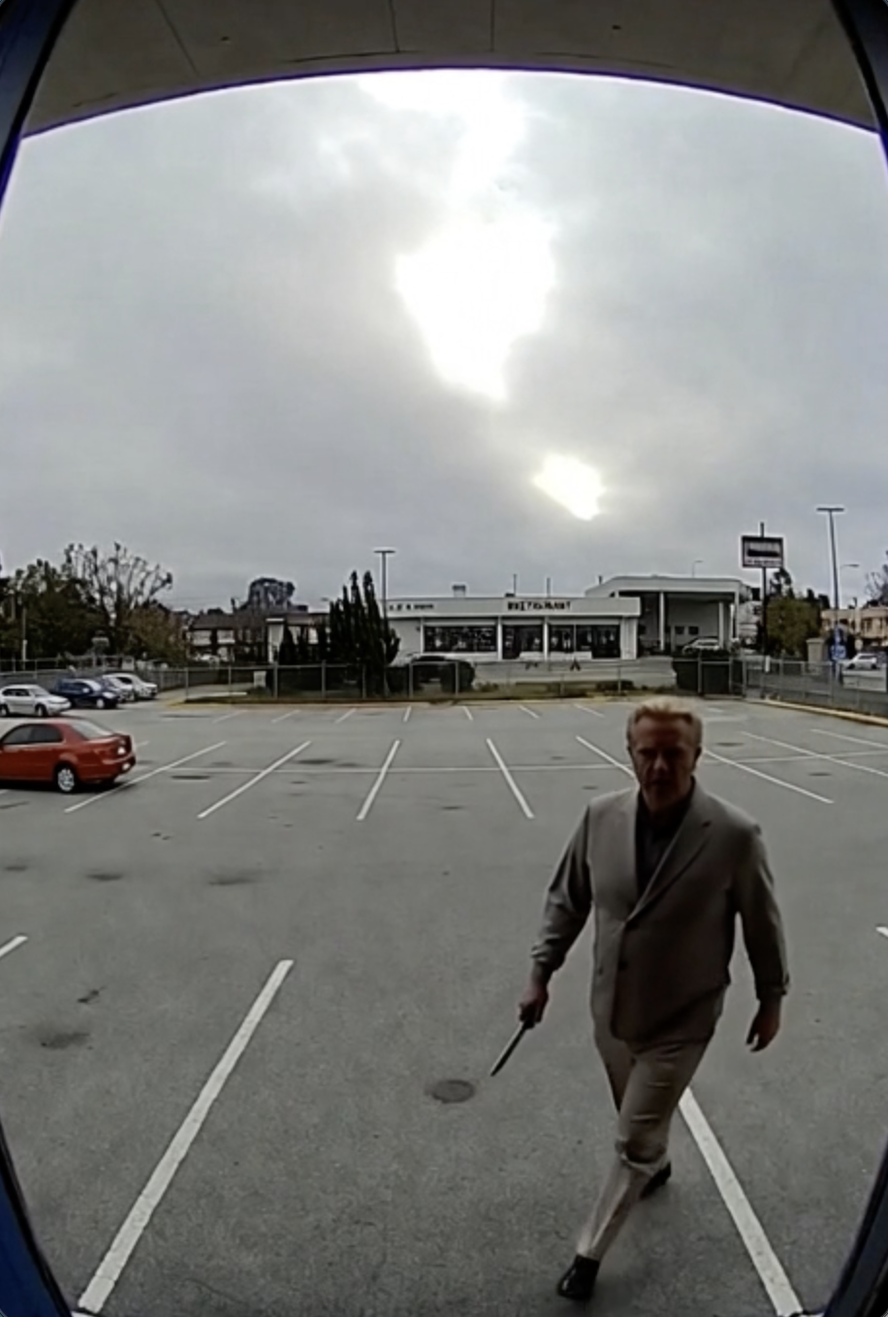Heavy Gun: (518, 693, 799, 1298)
Knife: (485, 981, 547, 1074)
